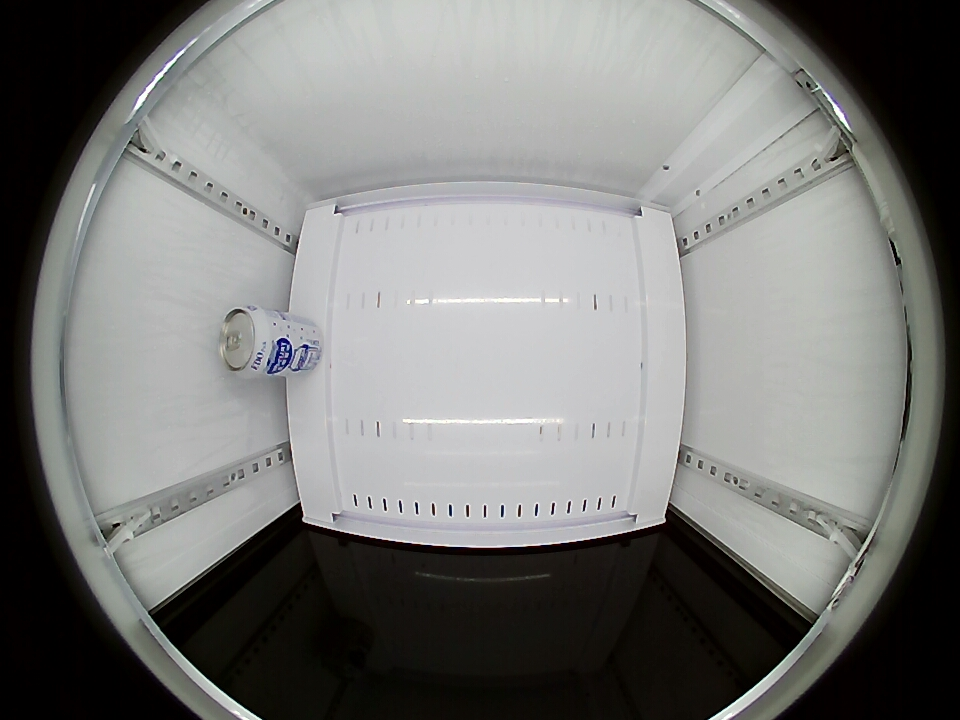rusuanjunqishui: (220, 306, 279, 376)
